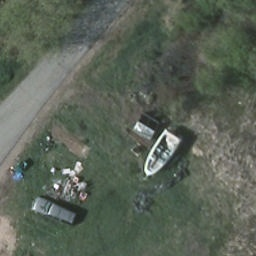car: (30, 196, 78, 227)
